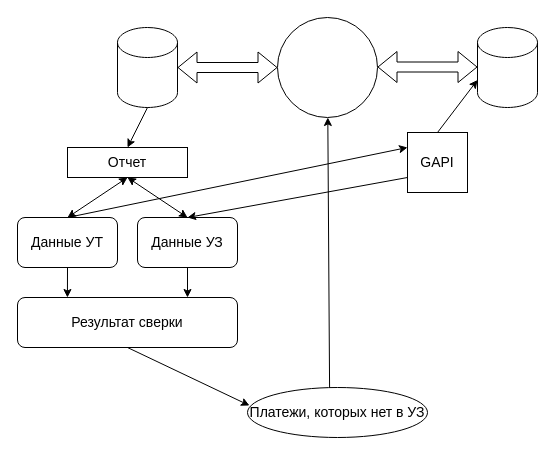
The diagram is 555 pixels wide and 455 high, and some of its shapes have lost their labels. The centre of each missing label's shape, as x and y in pixels:
"Базы УТ" goes at point 147,67.
"ОБМЕН kafka или файлы" goes at point 327,67.
"УЗ" goes at point 507,67.
